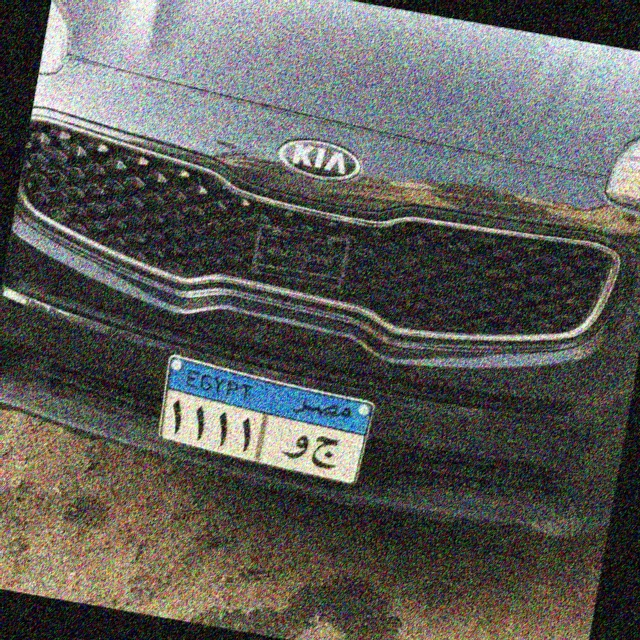License Plate: (149, 350, 379, 489)
